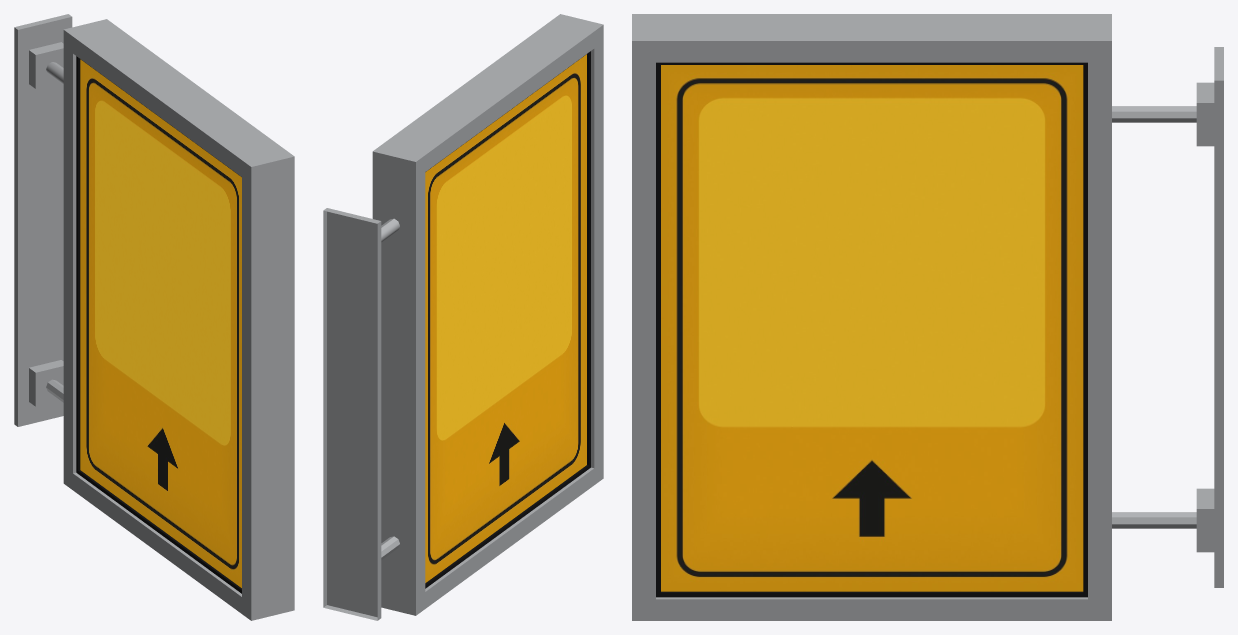
The model's file is gteki_sign_blade_yellow_up.glb.
The picture shows the model from 3 angles, left to right: view 1: azimuth 30°, elevation 25°; view 2: azimuth 150°, elevation 25°; view 3: azimuth 270°, elevation 25°; orthographic projection. The views are drawn at different scales.
Visible parts, largest first — view 1: VIS_body; view 2: VIS_body; view 3: VIS_body.
Part boxes in pixels (x1,y1,x2,y2): VIS_body: (14,14,294,620); VIS_body: (323,14,603,620); VIS_body: (632,14,1223,620).
Size of what is drawn, in the model's own units: 0.1 by 0.8 by 0.74.
2 materials, 2 textured.
